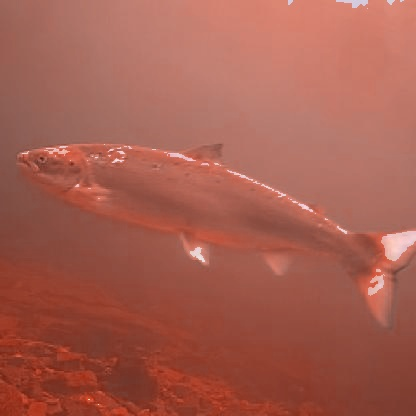salmon: (7, 132, 414, 331)
